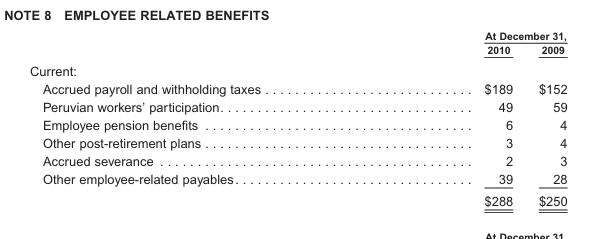table: (28, 29, 566, 208)
table column: (28, 29, 371, 208), (371, 29, 525, 208), (525, 29, 566, 208)
table column header: (28, 29, 566, 59)
table projected row header: (28, 59, 566, 79)
table row: (28, 59, 566, 79), (28, 169, 566, 189), (28, 189, 566, 208), (28, 79, 566, 97), (28, 97, 566, 115), (28, 115, 566, 133), (28, 133, 566, 151), (28, 151, 566, 169), (28, 42, 566, 59), (28, 29, 566, 42)
table spanning cell: (371, 29, 566, 42)
